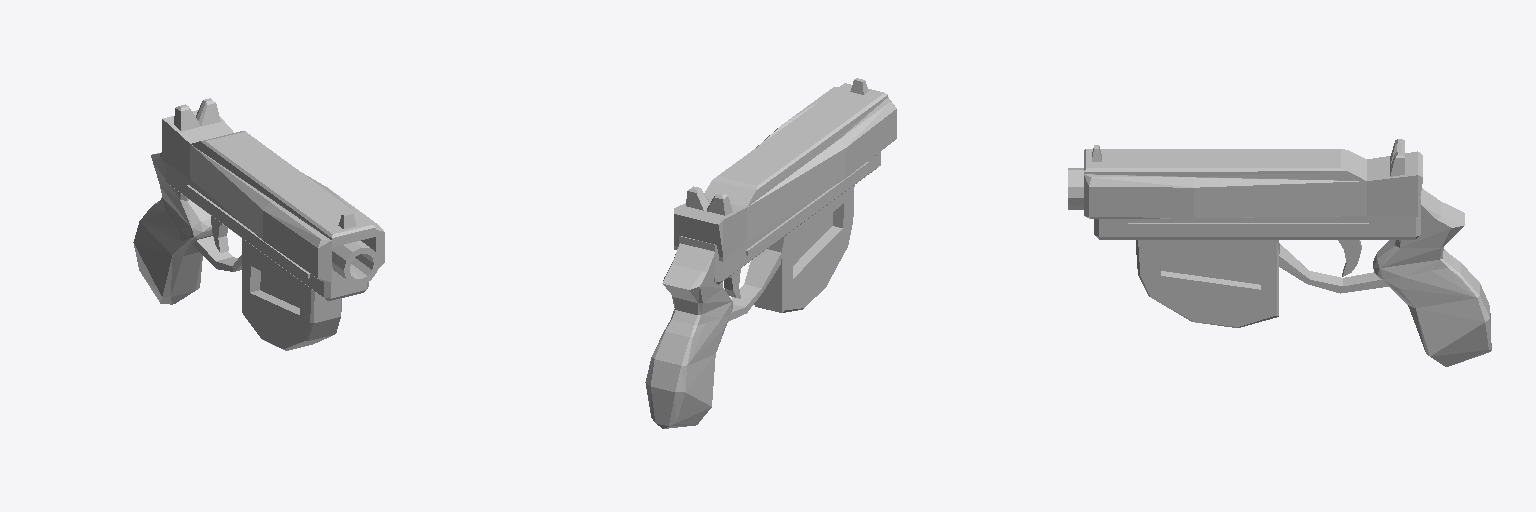
File: pistol.obj
3 renders of one model, left to right at view 1: azimuth 30°, elevation 25°; view 2: azimuth 150°, elevation 25°; view 3: azimuth 270°, elevation 25°, orthographic.
Parts seen in each view (by area): view 1: slide_slide_mesh, frame_frame_mesh, Magazine_mag_mesh; view 2: slide_slide_mesh, frame_frame_mesh, Magazine_mag_mesh; view 3: slide_slide_mesh, frame_frame_mesh, Magazine_mag_mesh, trigger_trig_mesh.
Part boxes in pixels (x1,y1,x2,y2): slide_slide_mesh: (162, 98, 384, 281); frame_frame_mesh: (133, 152, 378, 304); Magazine_mag_mesh: (242, 238, 341, 350); slide_slide_mesh: (674, 78, 896, 261); frame_frame_mesh: (645, 152, 880, 428); Magazine_mag_mesh: (754, 185, 854, 312); slide_slide_mesh: (1084, 139, 1422, 218); frame_frame_mesh: (1068, 168, 1491, 366); Magazine_mag_mesh: (1136, 240, 1278, 327); trigger_trig_mesh: (1338, 240, 1361, 276).
Size of the model in its own units: 4.73 by 13.82 by 24.31.